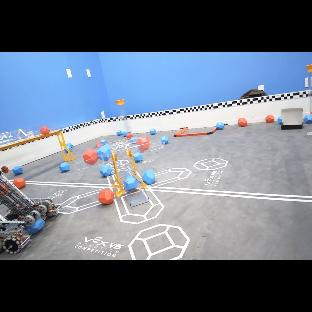Autolimit: (145, 187, 312, 203), (26, 181, 112, 189)
Goal: (0, 126, 75, 162)
Loader: (115, 99, 130, 133)
Low_goal: (120, 165, 149, 207)
Med_goal: (74, 142, 165, 197)
Parking-R: (174, 127, 217, 137)
Robot: (0, 167, 62, 254)
V5_BLUE: (100, 165, 138, 193), (97, 141, 116, 161), (26, 218, 44, 234), (139, 170, 155, 185), (59, 163, 69, 172), (303, 114, 312, 123), (13, 166, 22, 174), (134, 153, 142, 161), (216, 122, 224, 130), (117, 130, 127, 136), (161, 136, 168, 144), (150, 129, 156, 135), (278, 116, 282, 124)
V5_RED: (83, 149, 98, 164), (99, 189, 113, 204), (137, 136, 150, 151), (13, 178, 25, 188), (238, 118, 247, 127), (215, 122, 225, 130), (266, 115, 274, 123), (41, 127, 49, 135), (96, 142, 103, 147), (126, 133, 132, 138), (310, 112, 312, 115)
blueingoal: (97, 145, 111, 161)
blueinrobot: (25, 218, 45, 234)
redingoal: (83, 149, 99, 164), (137, 137, 151, 152), (39, 126, 50, 136)
